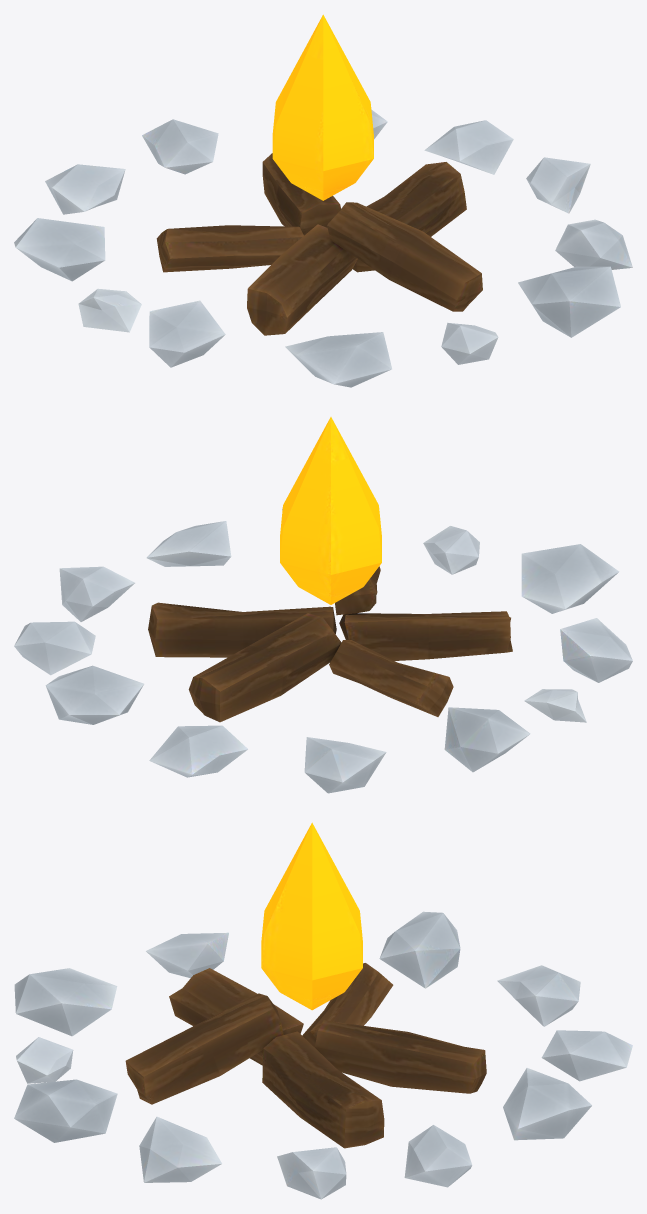
The model's file is vr_camp_fire.glb.
3 views of the same model, one above another, from view 1: azimuth 30°, elevation 25°; view 2: azimuth 150°, elevation 25°; view 3: azimuth 270°, elevation 25° (orthographic).
Parts seen in each view (by area): view 1: g; view 2: g; view 3: g.
Part boxes in pixels (x1=…): g: x1=14, y1=14, x2=632, y2=387; g: x1=14, y1=417, x2=632, y2=793; g: x1=14, y1=822, x2=632, y2=1199.
Size of the model in its own units: 1.96 by 0.8943 by 2.
1 material, 1 textured.
